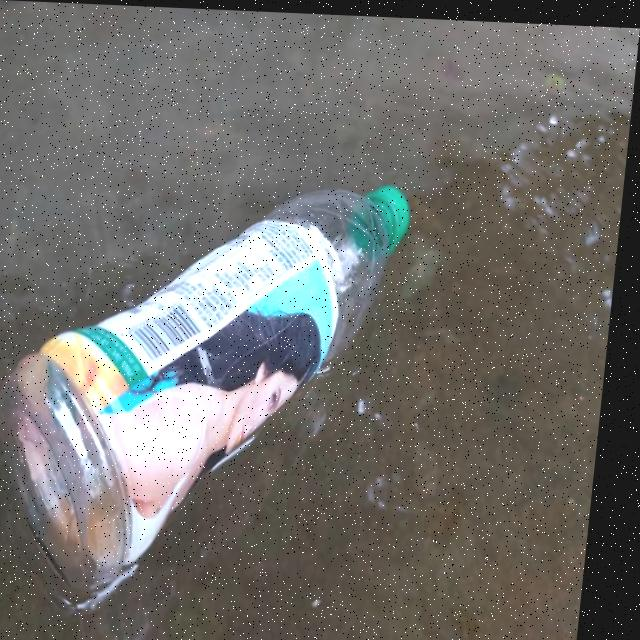waterbottle: (0, 135, 440, 595)
